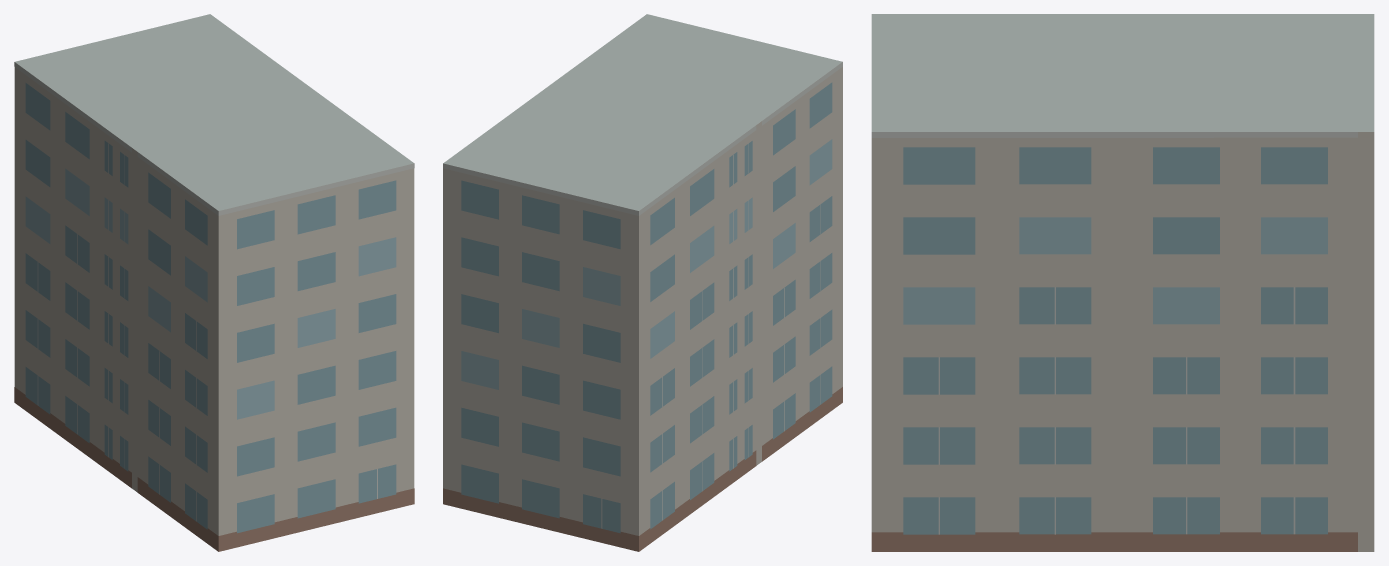
Rendered from survey-upis-32975540.glb.
3 views of the same model, side by side, from view 1: azimuth 30°, elevation 25°; view 2: azimuth 150°, elevation 25°; view 3: azimuth 270°, elevation 25° (orthographic). The views are drawn at different scales.
Visible parts, largest first — view 1: survey-upis-32975540.tmp; view 2: survey-upis-32975540.tmp; view 3: survey-upis-32975540.tmp.
Part boxes in pixels (x1,y1,x2,y2): survey-upis-32975540.tmp: [14, 14, 414, 551]; survey-upis-32975540.tmp: [443, 14, 842, 551]; survey-upis-32975540.tmp: [871, 14, 1374, 551].
Size of the model in its own units: 10.31 by 17.1 by 18.57.
